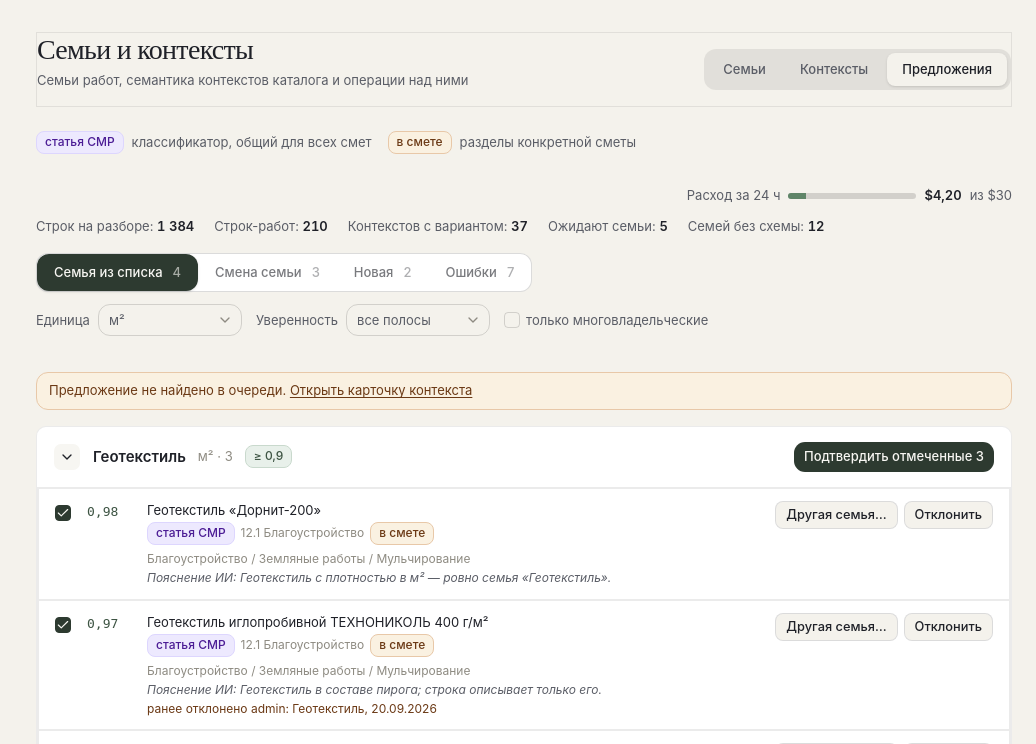
Test: FamiliesPage: заметка «не найдено» и жизнь цели › заметка относится к очереди цели: в другой очереди её нет
Check: the element with test id "suggestion-not-found" is shown, box top-left (36, 372), bottom-right (1012, 410)
Step 1. Click the tab "Новая 2" → click(383, 273), box top-left (337, 254), bottom-right (428, 291)
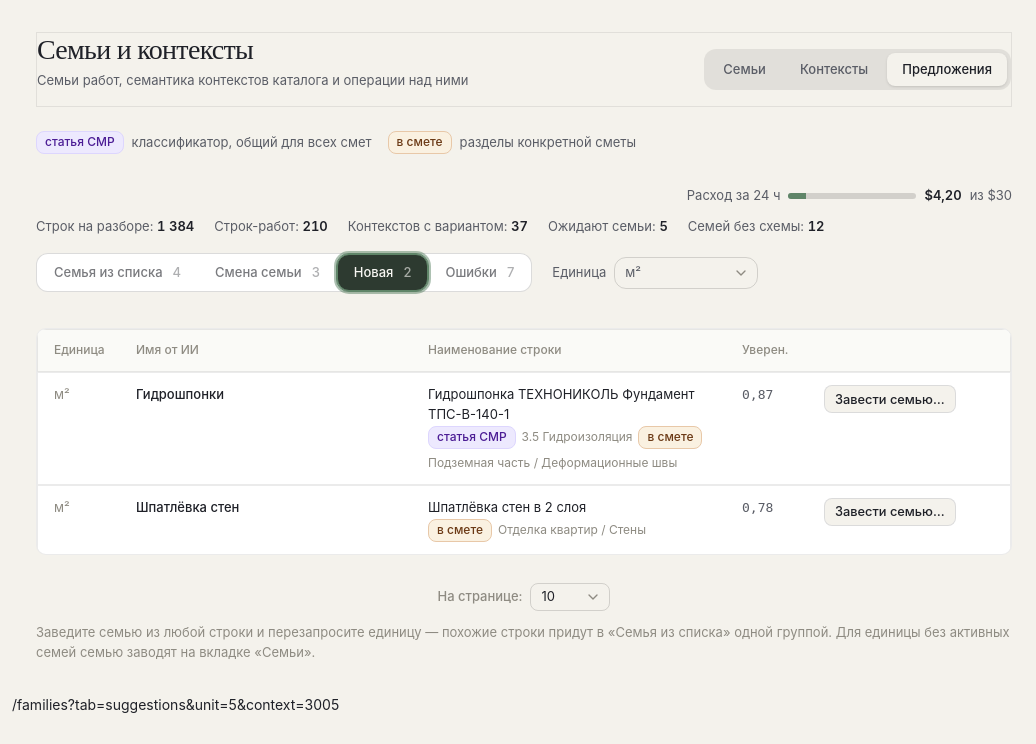
Check: the element with test id "suggestion-not-found" is gone
